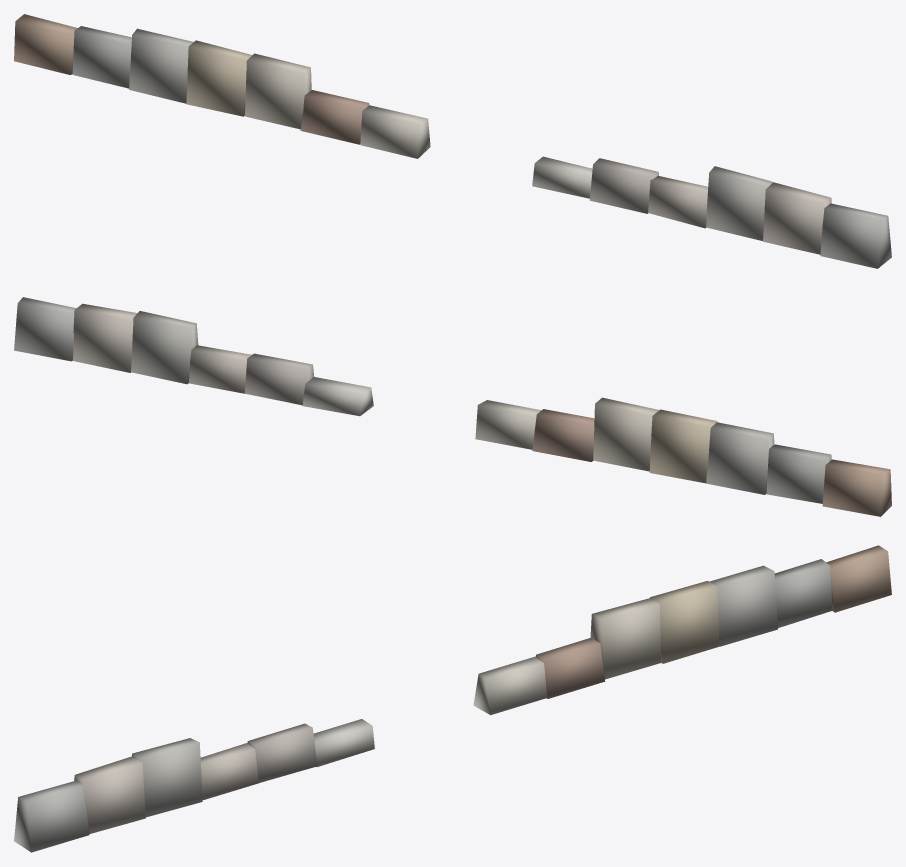
File: farm_23_19_far.glb
The picture shows the model from 3 angles, top to bottom: view 1: azimuth 30°, elevation 25°; view 2: azimuth 210°, elevation 25°; view 3: azimuth 270°, elevation 25°; orthographic projection. The views are drawn at different scales.
Visible parts, largest first — view 1: geometry_0; view 2: geometry_0; view 3: geometry_0.
Part boxes in pixels (x1=…): geometry_0: x1=14, y1=14, x2=891, y2=268; geometry_0: x1=14, y1=297, x2=891, y2=516; geometry_0: x1=14, y1=545, x2=891, y2=852.
Size of the model in its own units: 13.41 by 1.88 by 20.17.
